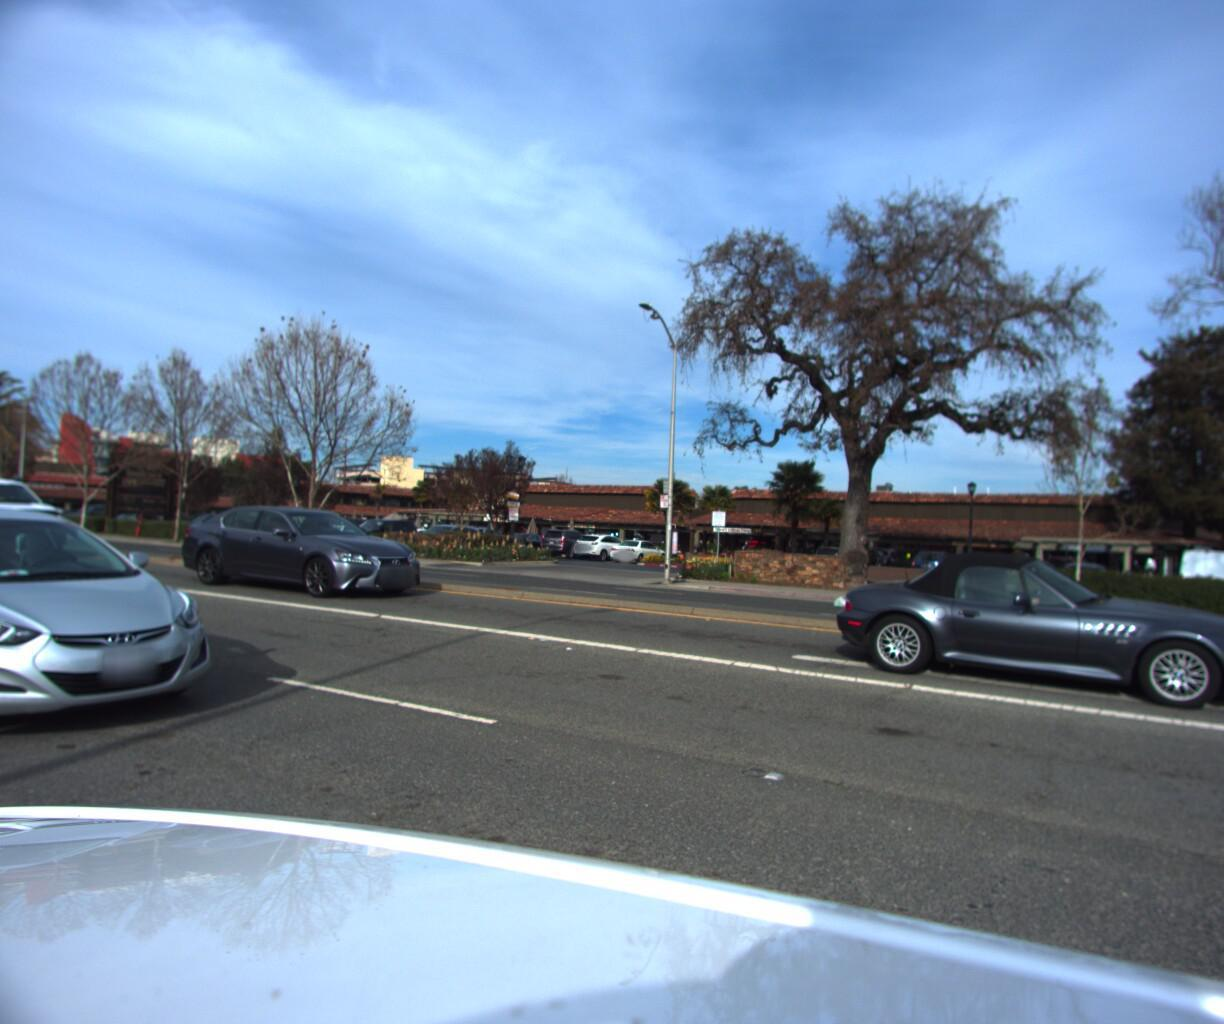car: (0, 492, 264, 762), (823, 532, 1224, 705), (170, 503, 437, 600), (0, 476, 84, 564)
